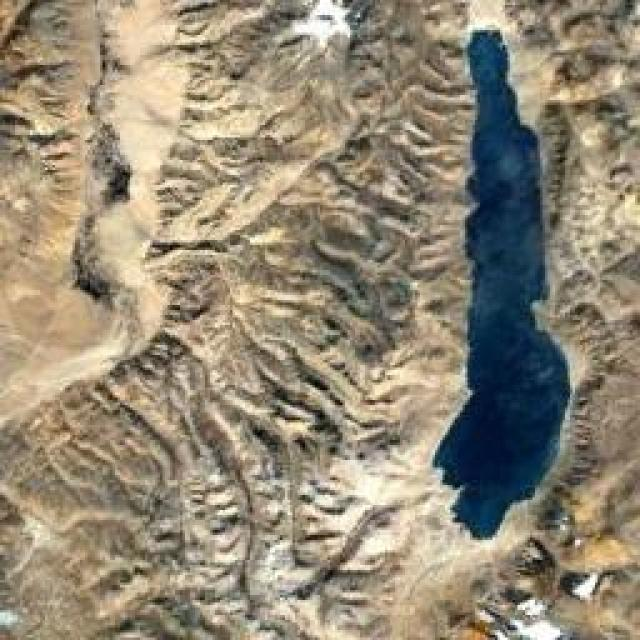Lake: (428, 22, 572, 540)
Mountain: (2, 1, 640, 639)
